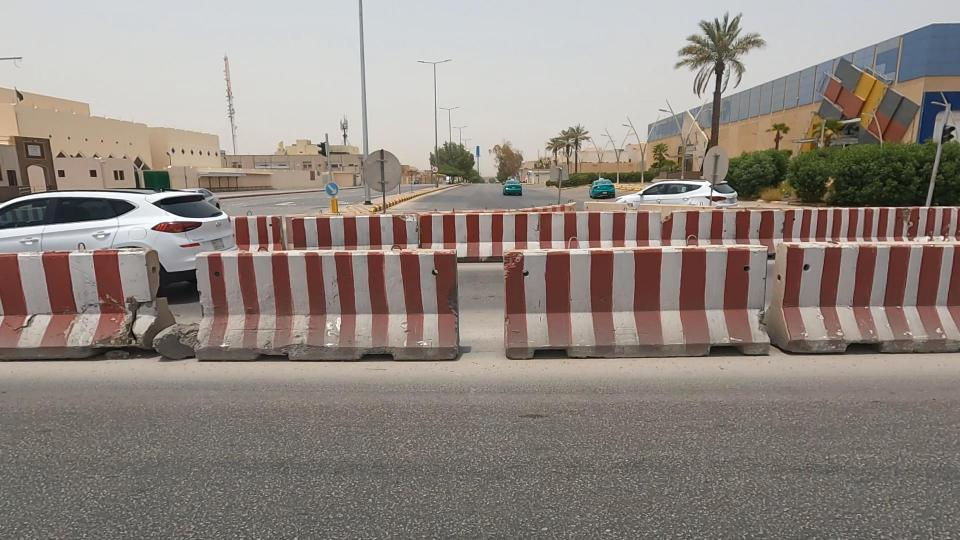CONSTRUCTION_ROAD: (403, 179, 960, 274), (241, 173, 607, 263)
